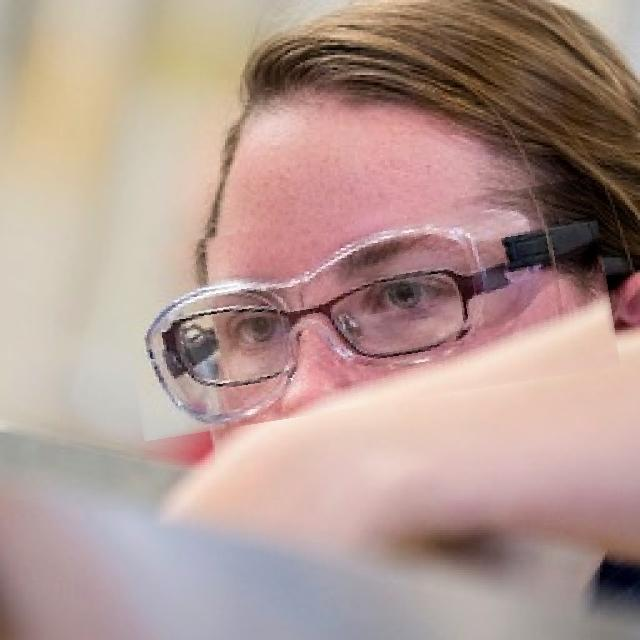glasses: (120, 196, 614, 423)
